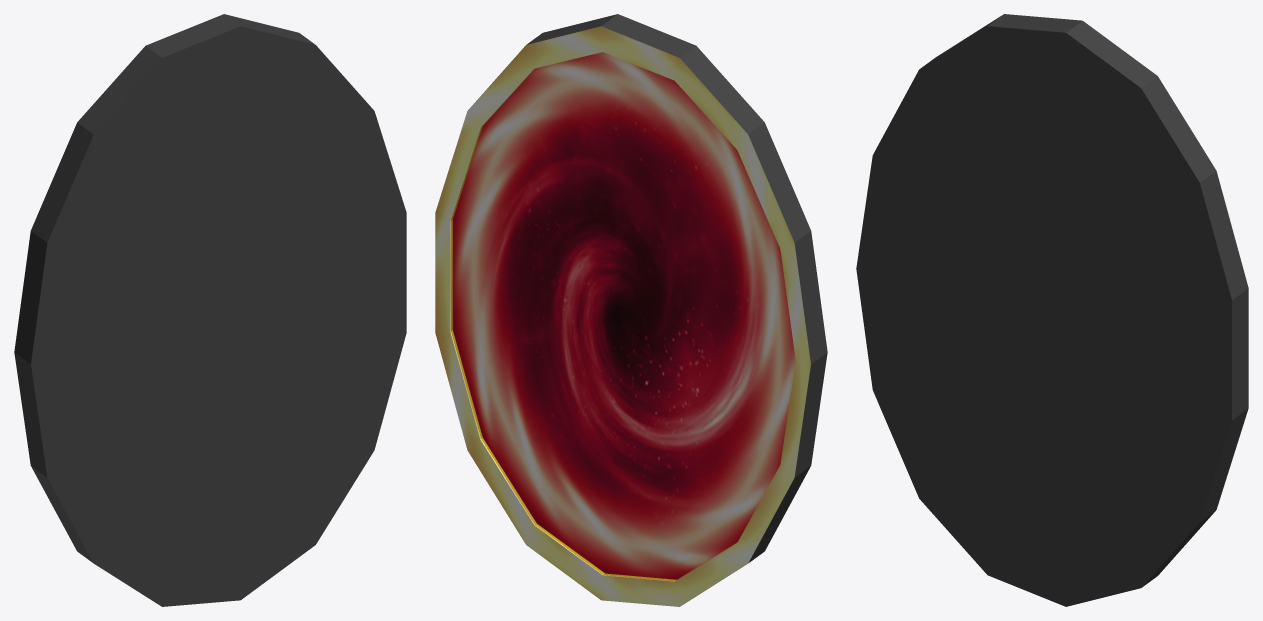
The model's file is space gate small.fbx.
The picture shows the model from 3 angles, left to right: view 1: azimuth 30°, elevation 25°; view 2: azimuth 150°, elevation 25°; view 3: azimuth 330°, elevation 25°; orthographic projection.
Visible parts, largest first — view 1: pCylinder2; view 2: pCylinder2; view 3: pCylinder2.
Boxes of the visible parts, <box> form: pCylinder2: <box>14,14,406,606</box>; pCylinder2: <box>435,14,827,606</box>; pCylinder2: <box>856,14,1248,606</box>.
Bounding box in the file's own units: 70.04 × 102 × 5.38.
